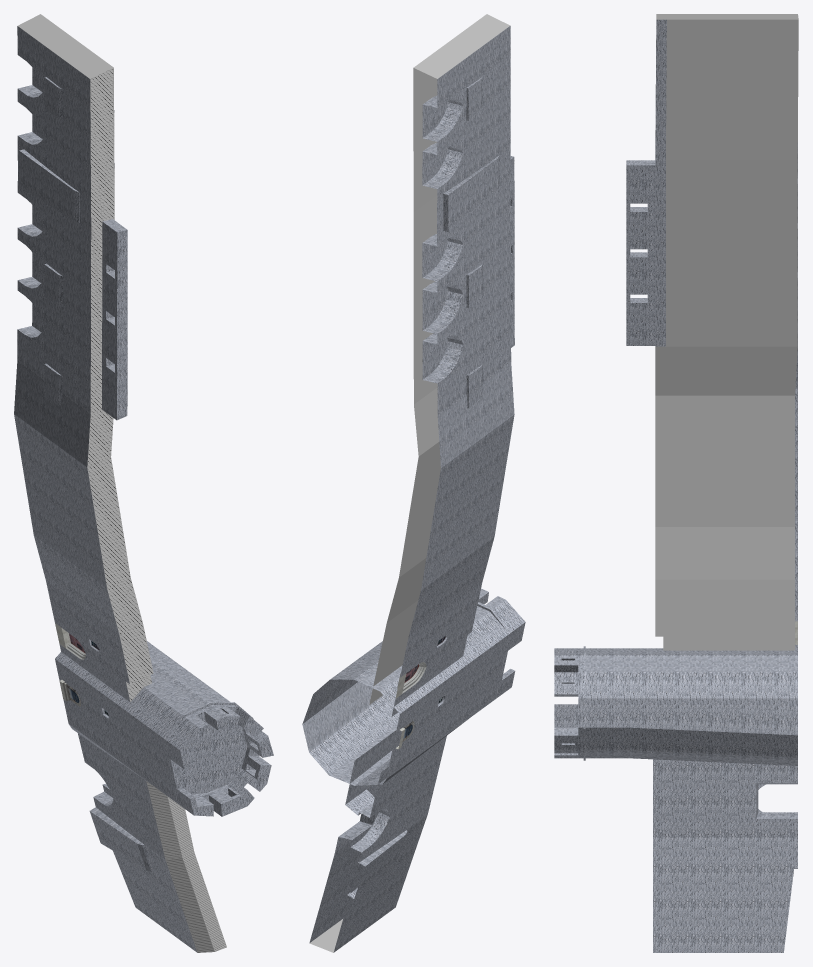
The model's file is vene_tn_myyr.obj.
3 views of the same model, side by side, from view 1: azimuth 30°, elevation 25°; view 2: azimuth 150°, elevation 25°; view 3: azimuth 270°, elevation 25° (orthographic). The views are drawn at different scales.
Visible parts, largest first — view 1: venemyyr, xxx; view 2: venemyyr, xxx; view 3: xxx, venemyyr.
Boxes of the visible parts, box(x1,y1,x2,y2) form: venemyyr: box(14, 26, 273, 952); xxx: box(18, 14, 113, 78); venemyyr: box(302, 26, 525, 952); xxx: box(309, 14, 510, 952); xxx: box(655, 14, 798, 650); venemyyr: box(554, 19, 797, 952).
Size of the model in its own units: 14.24 by 88.57 by 22.19.
